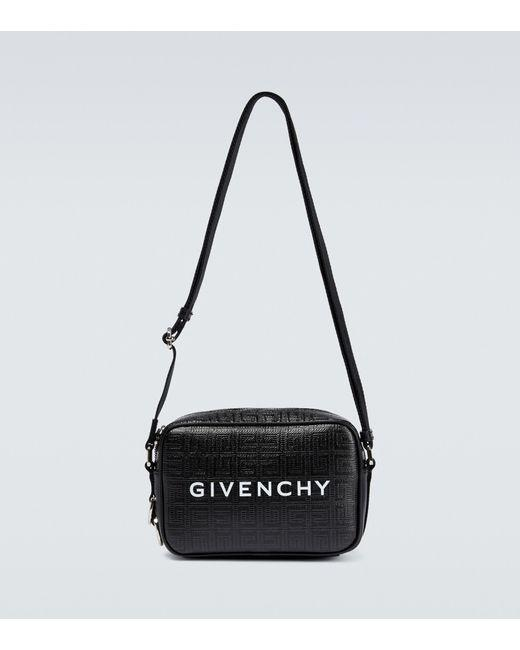GIVENCHY: (179, 467, 340, 509)
